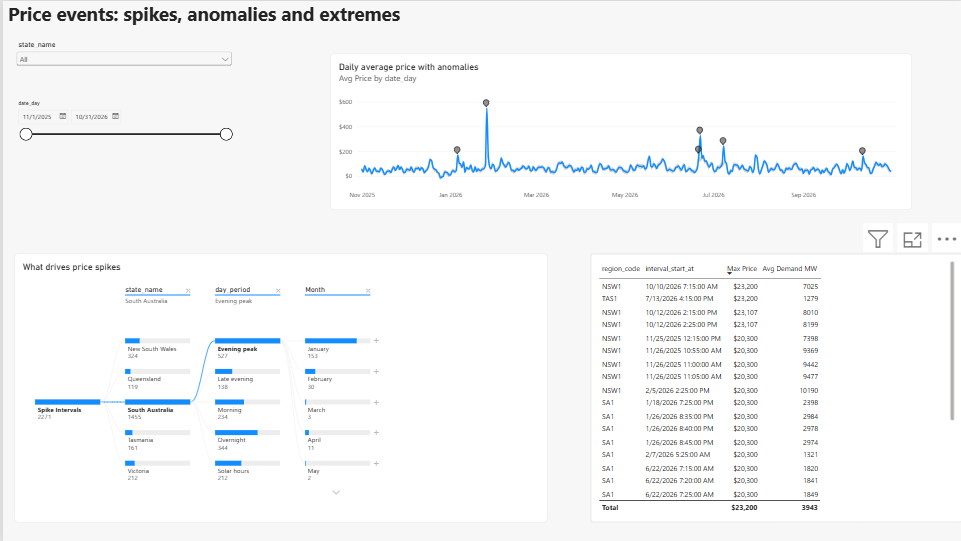

The page's visual inventory and layout, read from the dashboard file:
{"tool":"powerbi","page":{"name":"Price Events","canvas":[1920,1080],"ordinal":1},"visuals":[{"type":"textbox","box":[10,0,950,77.5],"z":0},{"type":"slicer","fields":{"Values":["dim_region.state_name"]},"box":[22.5,77.5,440,120],"z":1000},{"type":"slicer","fields":{"Values":["dim_date.date_day"]},"box":[22.5,197.5,440,125],"z":2000},{"type":"lineChart","title":"Daily average price with anomalies","fields":{"Category":["dim_date.date_day"],"Y":["fact_dispatch_price.Avg Price"]},"box":[655,105,1162.5,312.5],"z":3000},{"type":"tableEx","fields":{"Values":["dim_region.region_code","fact_dispatch_price.interval_start_at","fact_dispatch_price.Max Price","fact_dispatch_price.Avg Demand MW"]},"box":[1175,505,745,537.5],"z":4000},{"type":"decompositionTreeVisual","title":"What drives price spikes","fields":{"Analyze":["fact_dispatch_price.Spike Intervals"],"ExplainBy":["dim_region.state_name","dim_interval.day_period","dim_date.Month Start.Variation.Date Hierarchy.Month","dim_date.Month Start.Variation.Date Hierarchy.Year","dim_date.Month Start.Variation.Date Hierarchy.Quarter","dim_date.Month Start.Variation.Date Hierarchy.Day","dim_date.day_name"]},"box":[22.5,505,1067.5,537.5],"z":4001}]}

Visuals, with their boxes in screenshot pixels (x1, y1, x2, y2), scaled from the page's 1920x1080 canvas onto the 961x541 screenshot:
textbox: detection(5, 0, 480, 39)
slicer - dim_region.state_name: detection(11, 39, 231, 99)
slicer - dim_date.date_day: detection(11, 99, 231, 162)
"Daily average price with anomalies" lineChart: detection(328, 53, 910, 209)
tableEx - dim_region.region_code x fact_dispatch_price.interval_start_at: detection(588, 253, 960, 522)
"What drives price spikes" decompositionTreeVisual: detection(11, 253, 546, 522)
